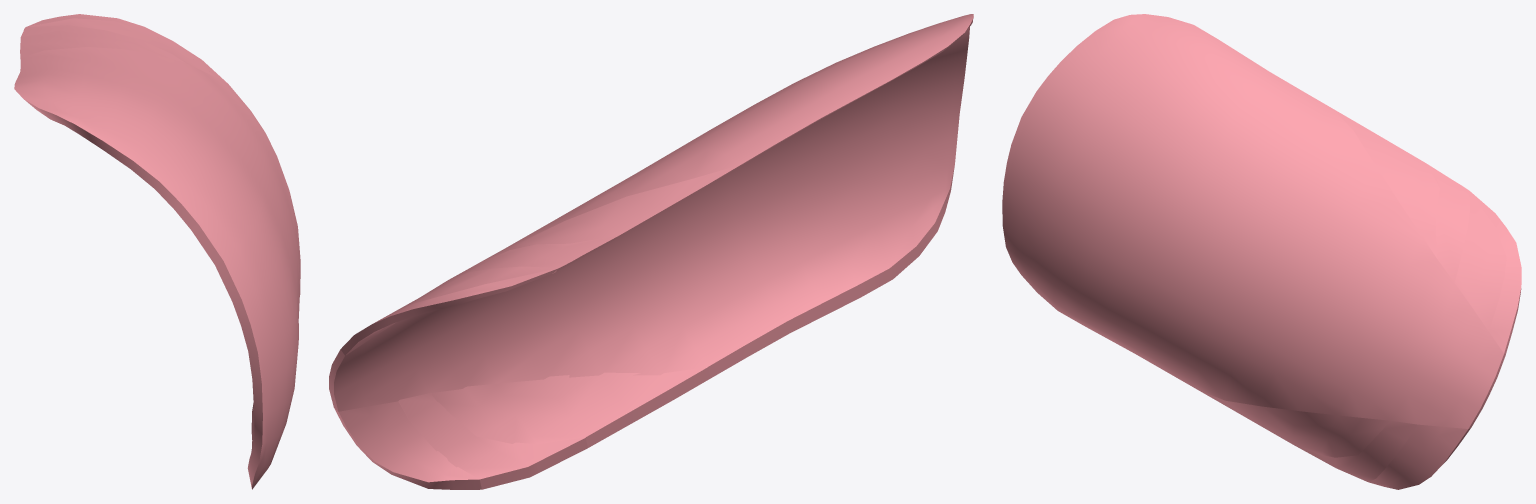
The picture shows the model from 3 angles, left to right: view 1: azimuth 30°, elevation 25°; view 2: azimuth 150°, elevation 25°; view 3: azimuth 270°, elevation 25°; orthographic projection. The views are drawn at different scales.
Visible parts, largest first — view 1: OBJ_39, OBJ_42, OBJ_40, OBJ_43, OBJ_41; view 2: OBJ_39, OBJ_46, OBJ_44, OBJ_45, OBJ_42, OBJ_41, OBJ_43, OBJ_40; view 3: OBJ_39, OBJ_46, OBJ_42, OBJ_40, OBJ_45, OBJ_43, OBJ_41, OBJ_44.
Boxes of the visible parts, x1,y1,x2,y2 form: OBJ_39: [14, 47, 299, 489]; OBJ_42: [20, 31, 169, 58]; OBJ_40: [26, 18, 214, 76]; OBJ_43: [21, 25, 185, 62]; OBJ_41: [26, 14, 227, 83]; OBJ_39: [329, 14, 973, 411]; OBJ_46: [431, 367, 710, 447]; OBJ_44: [398, 393, 587, 489]; OBJ_45: [334, 401, 481, 489]; OBJ_42: [480, 165, 740, 262]; OBJ_41: [340, 268, 558, 355]; OBJ_43: [450, 235, 618, 278]; OBJ_40: [377, 266, 558, 334]; OBJ_39: [1002, 14, 1505, 428]; OBJ_46: [1198, 390, 1389, 457]; OBJ_42: [1332, 108, 1439, 258]; OBJ_40: [1454, 191, 1506, 330]; OBJ_45: [1368, 424, 1470, 489]; OBJ_43: [1426, 163, 1469, 282]; OBJ_41: [1470, 191, 1521, 354]; OBJ_44: [1294, 420, 1416, 481].
Size of the model in its own units: 232 by 228 by 317.
